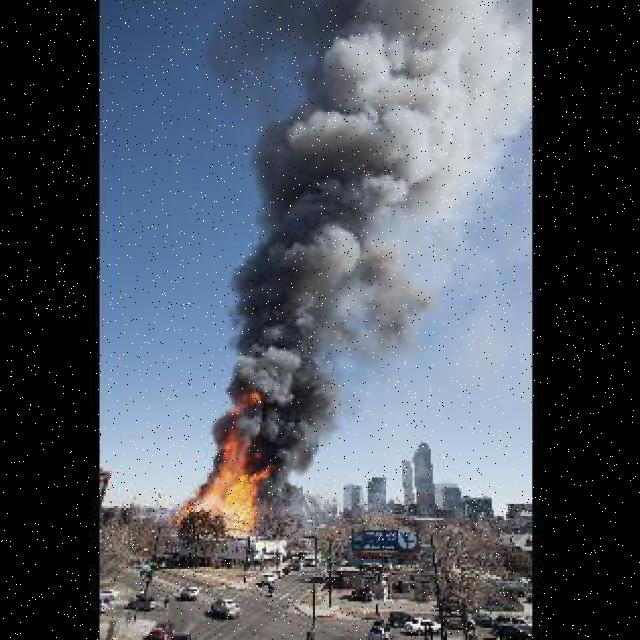fire: (187, 439, 272, 538)
smoke: (207, 6, 514, 455)
